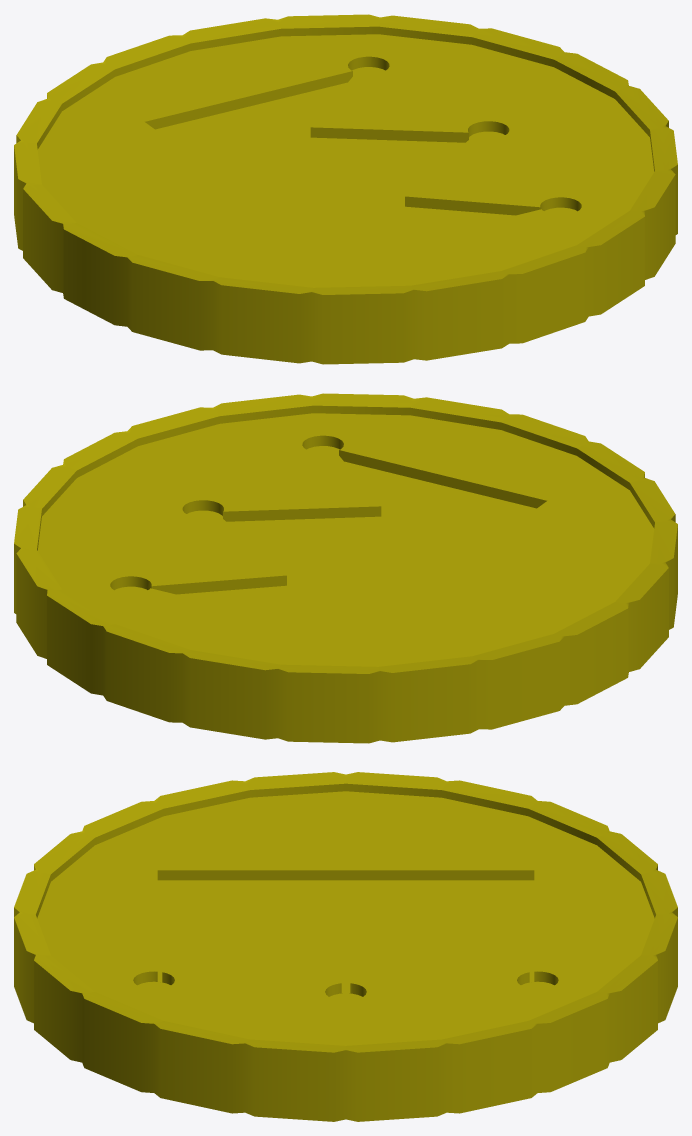
The model's file is coin_03.fbx.
3 renders of one model, top to bottom at view 1: azimuth 30°, elevation 25°; view 2: azimuth 150°, elevation 25°; view 3: azimuth 270°, elevation 25°, orthographic.
Visible parts, largest first — view 1: Coin; view 2: Coin; view 3: Coin.
Part boxes in pixels (left/top/right/bottom): Coin: left=14, top=14, right=677, bottom=364; Coin: left=14, top=393, right=677, bottom=743; Coin: left=14, top=772, right=677, bottom=1121.
Bounding box in the file's own units: 1.99 × 0.229 × 1.99.
